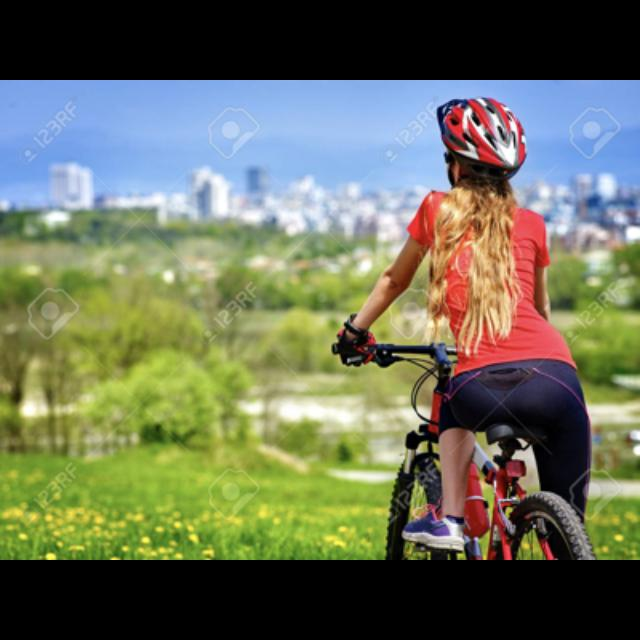With Helmet: (430, 99, 536, 189)
